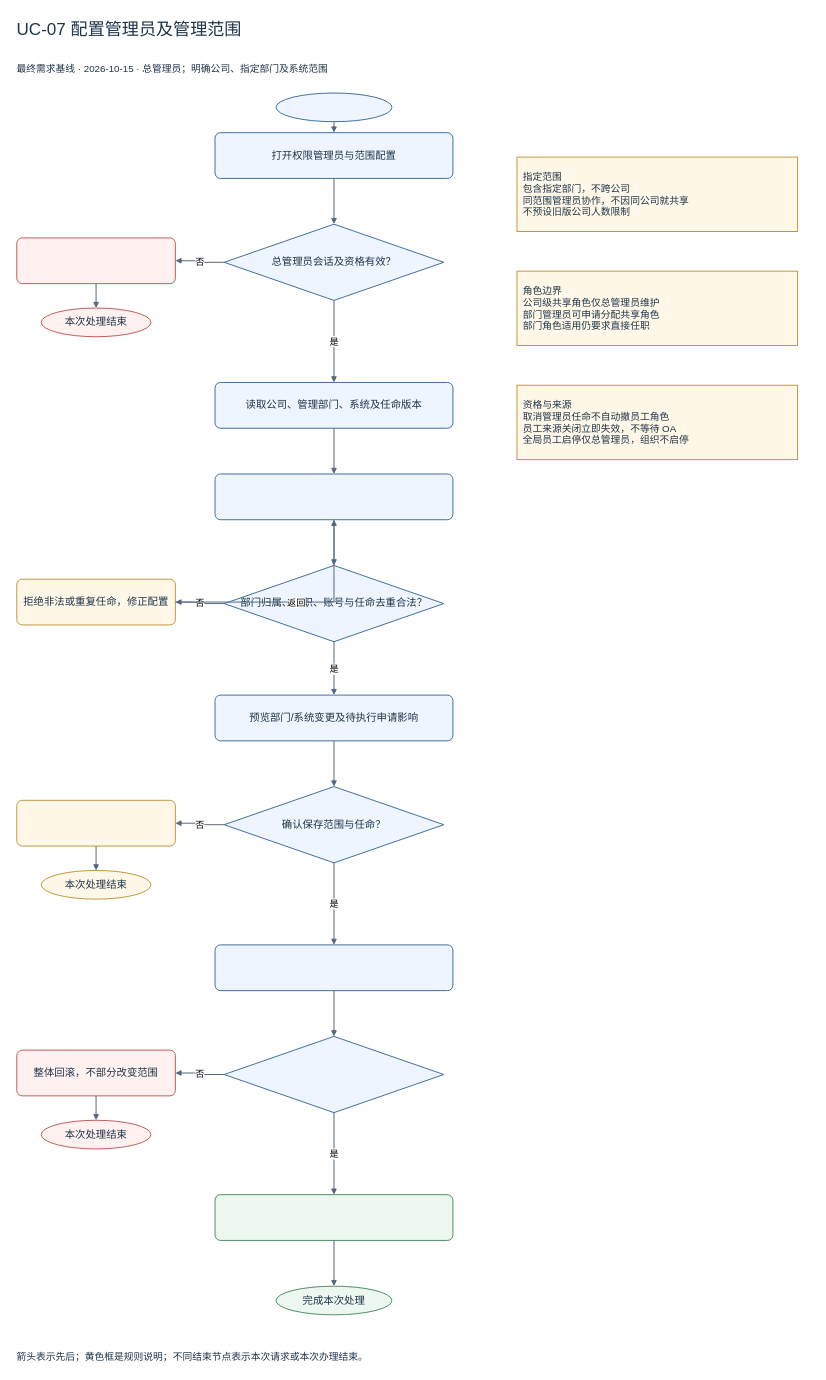
Some shapes in this 826 by 1380 pixel diagram are drawn without their labels. Each missing label, with the centre of its shape:
全部提交成功？: (x=333, y=1074)
取消未提交配置，原范围保留: (x=96, y=823)
复核版本，原子保存范围、任命与审计: (x=333, y=967)
开始: (x=333, y=107)
拒绝配置管理员范围: (x=96, y=260)
范围直接生效，后续请求按最新资格检查: (x=333, y=1217)
选择指定部门、可管理系统及管理员名单: (x=333, y=496)
